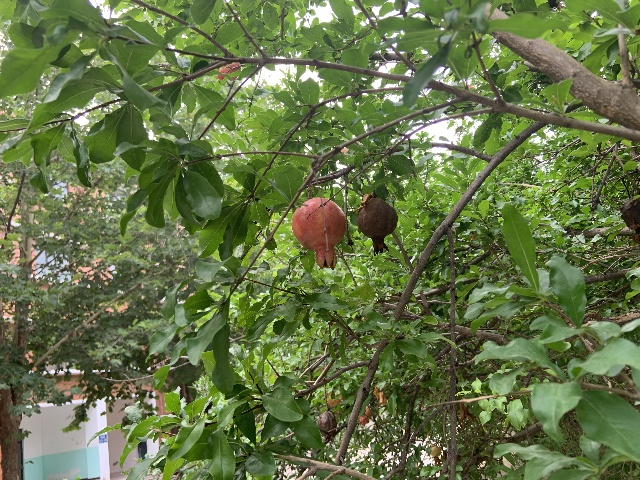mid-growth: (430, 445, 441, 457)
ripe: (291, 197, 346, 270), (215, 62, 240, 81), (358, 405, 372, 426)
